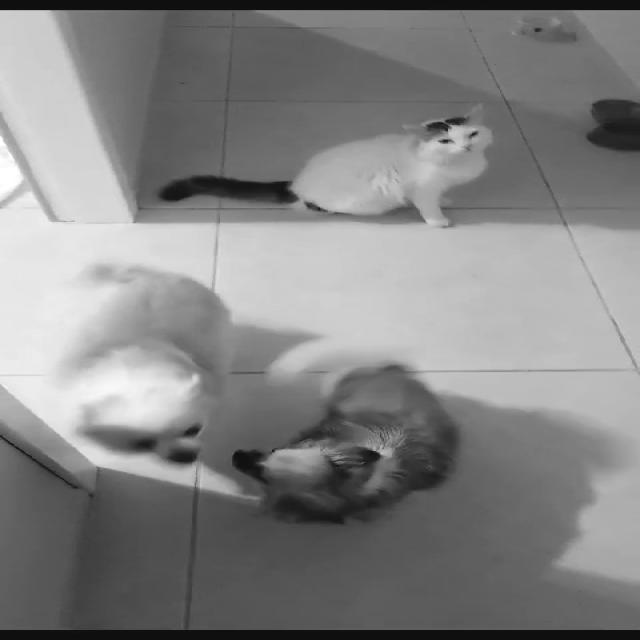Pedrita: (247, 313, 494, 537)
Simba: (231, 68, 531, 251)
Theo: (43, 243, 283, 521)
